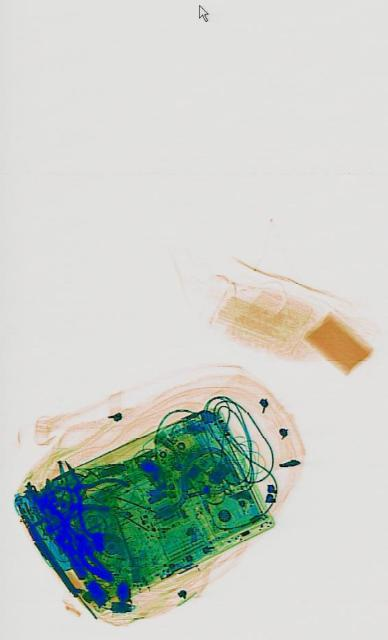Pliers: (45, 433, 130, 553)
